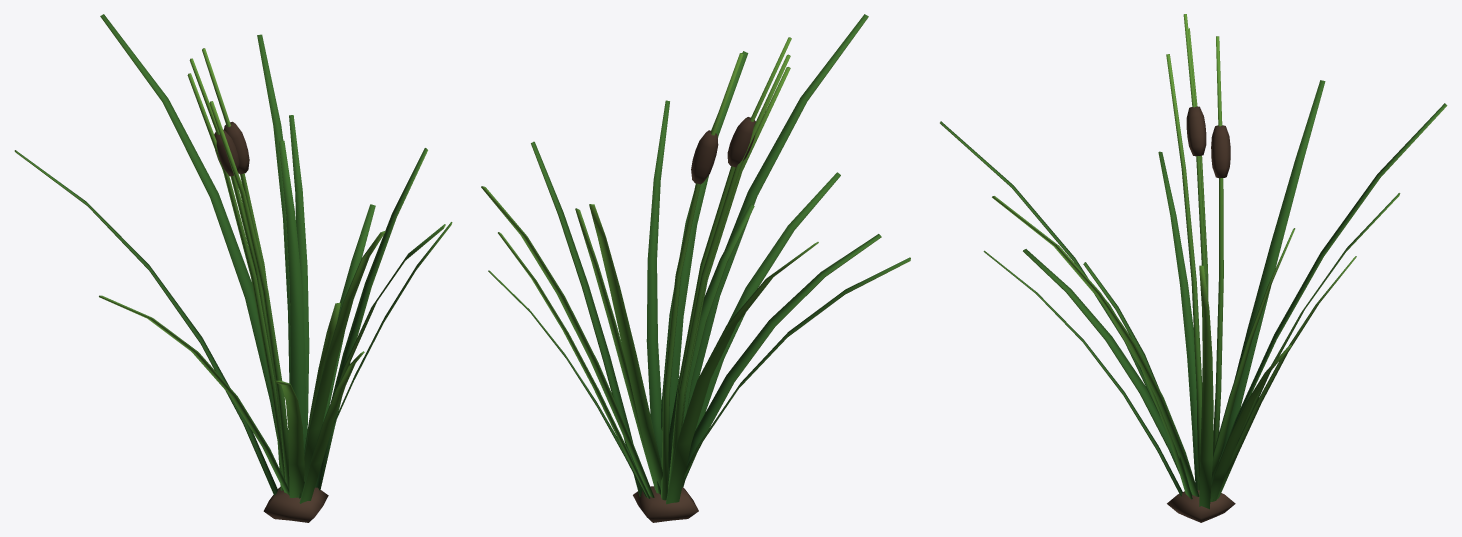
File: reeds.lod0.glb
3 renders of one model, left to right at view 1: azimuth 30°, elevation 25°; view 2: azimuth 150°, elevation 25°; view 3: azimuth 270°, elevation 25°, orthographic. The views are drawn at different scales.
Parts seen in each view (by area): view 1: reeds_s1_lod0; view 2: reeds_s1_lod0; view 3: reeds_s1_lod0.
Part boxes in pixels (x1=…): reeds_s1_lod0: x1=14, y1=14, x2=452, y2=522; reeds_s1_lod0: x1=481, y1=14, x2=910, y2=522; reeds_s1_lod0: x1=940, y1=14, x2=1447, y2=522.
Bounding box in the file's own units: 1.23 × 1.66 × 1.69.
